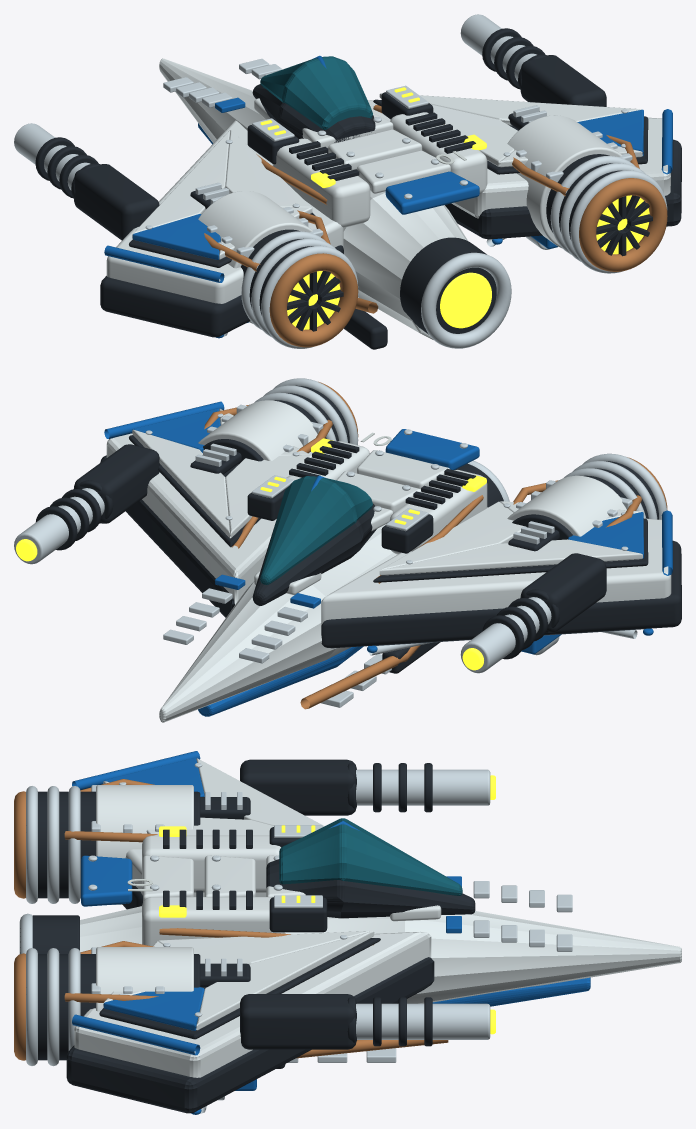
3 views of the same model, one above another, from view 1: azimuth 30°, elevation 25°; view 2: azimuth 150°, elevation 25°; view 3: azimuth 270°, elevation 25° (orthographic). The views are drawn at different scales.
Parts seen in each view (by area): view 1: SolidHull_01; view 2: SolidHull_01; view 3: SolidHull_01.
Part boxes in pixels (x1,y1,x2,y2): SolidHull_01: [14, 14, 681, 349]; SolidHull_01: [14, 378, 681, 722]; SolidHull_01: [14, 751, 681, 1114].
Bounding box in the file's own units: 3.37 × 1.15 × 3.13.
